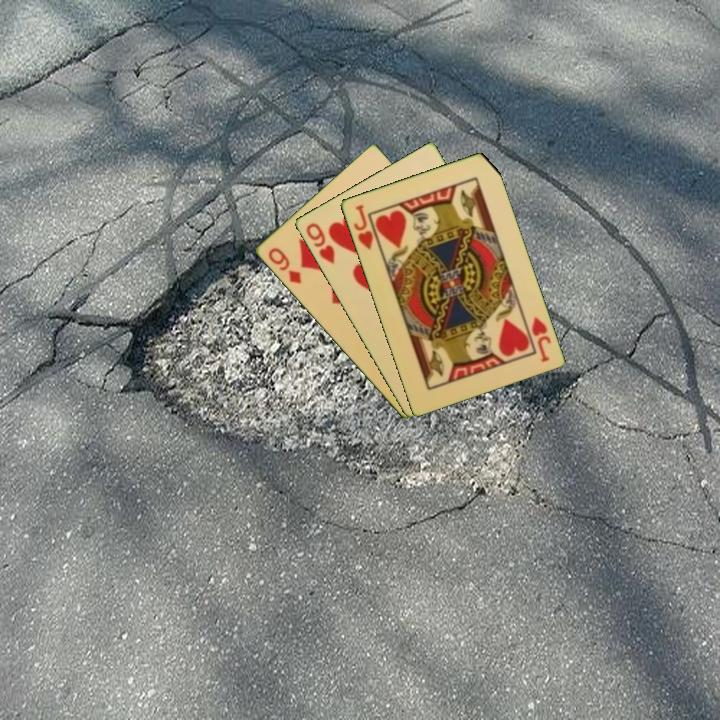9d: (264, 244, 304, 287)
9h: (302, 219, 337, 267)
Jh: (350, 201, 376, 253), (528, 313, 554, 365)
